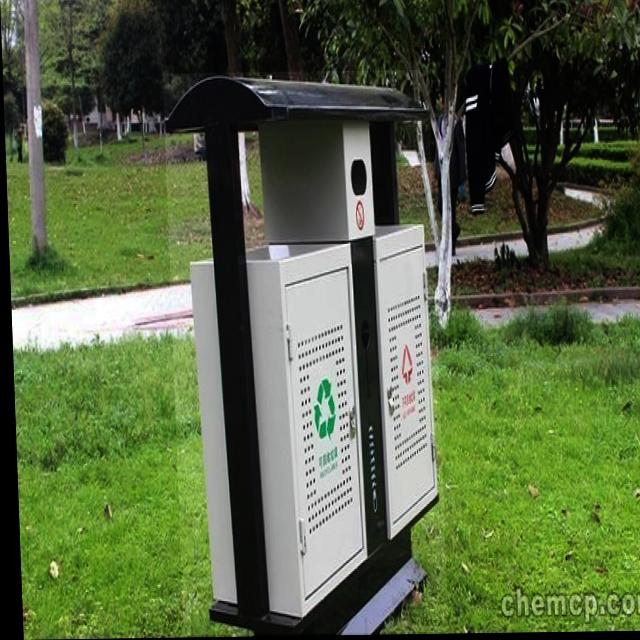garbage_bin: (162, 72, 443, 637)
